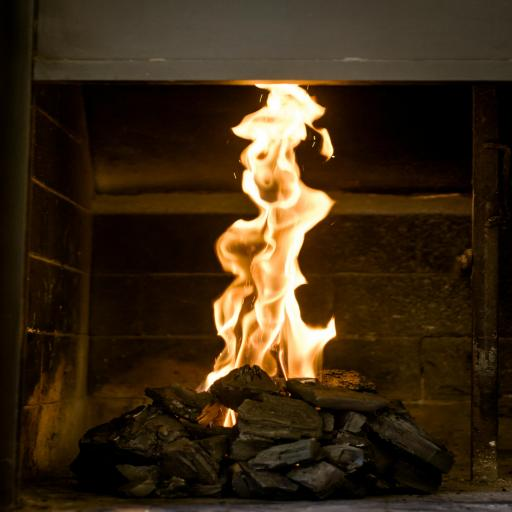campfire: (169, 51, 436, 461)
